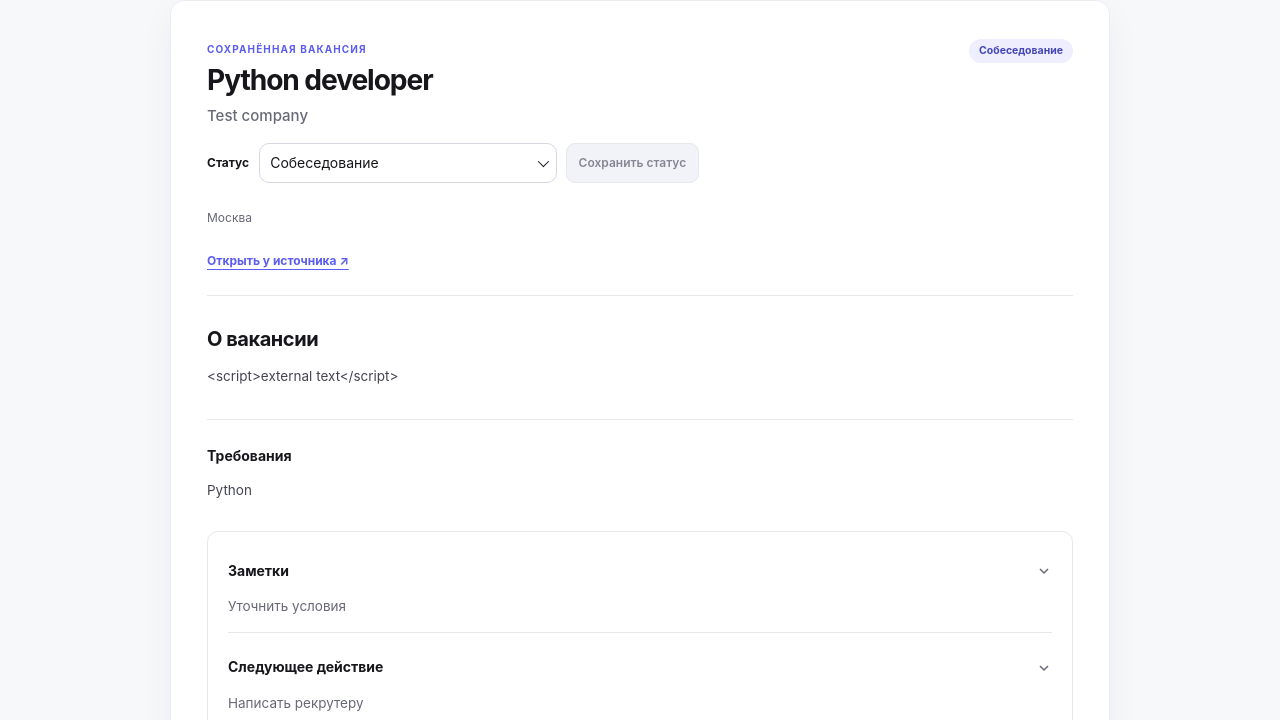
Test: does not fetch unopened history after status save
The width and height of the screenshot is (1280, 720).
Step 1. Click the dropdown named "Статус " → [324, 162], box [259,143,557,183]
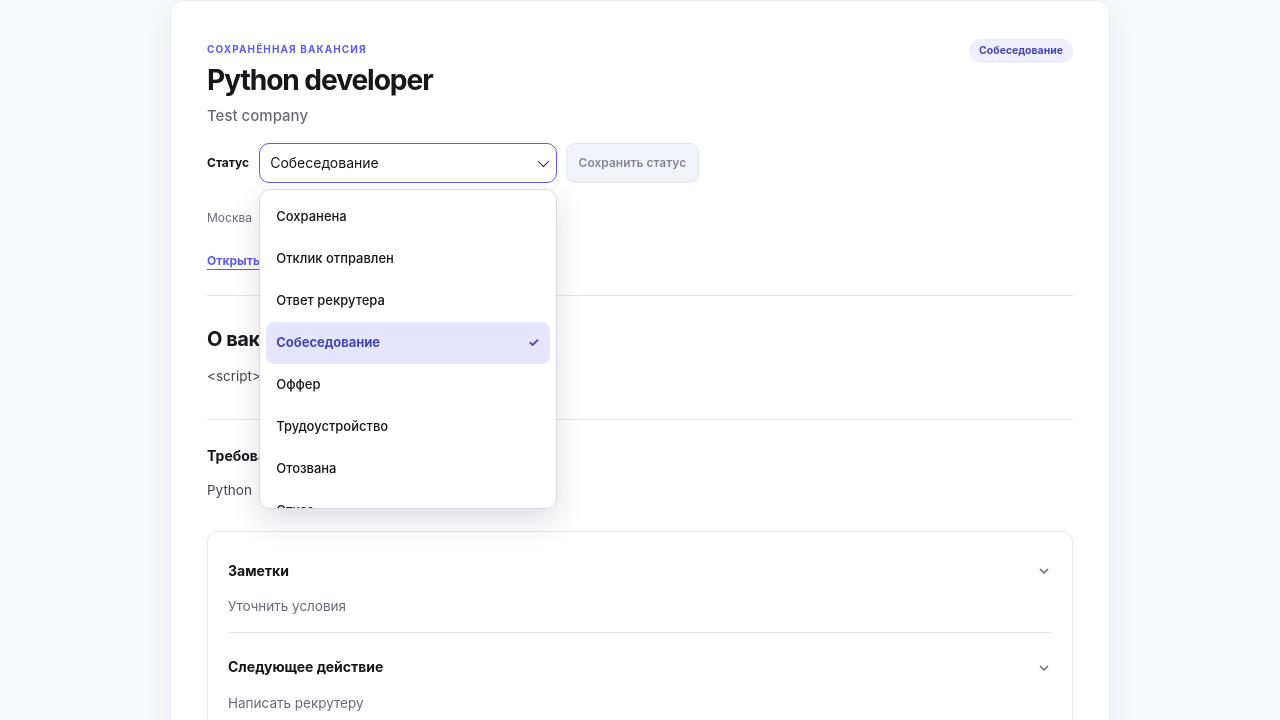
Step 2. Click the option "Оффер" → [298, 384], box [266,364,550,406]
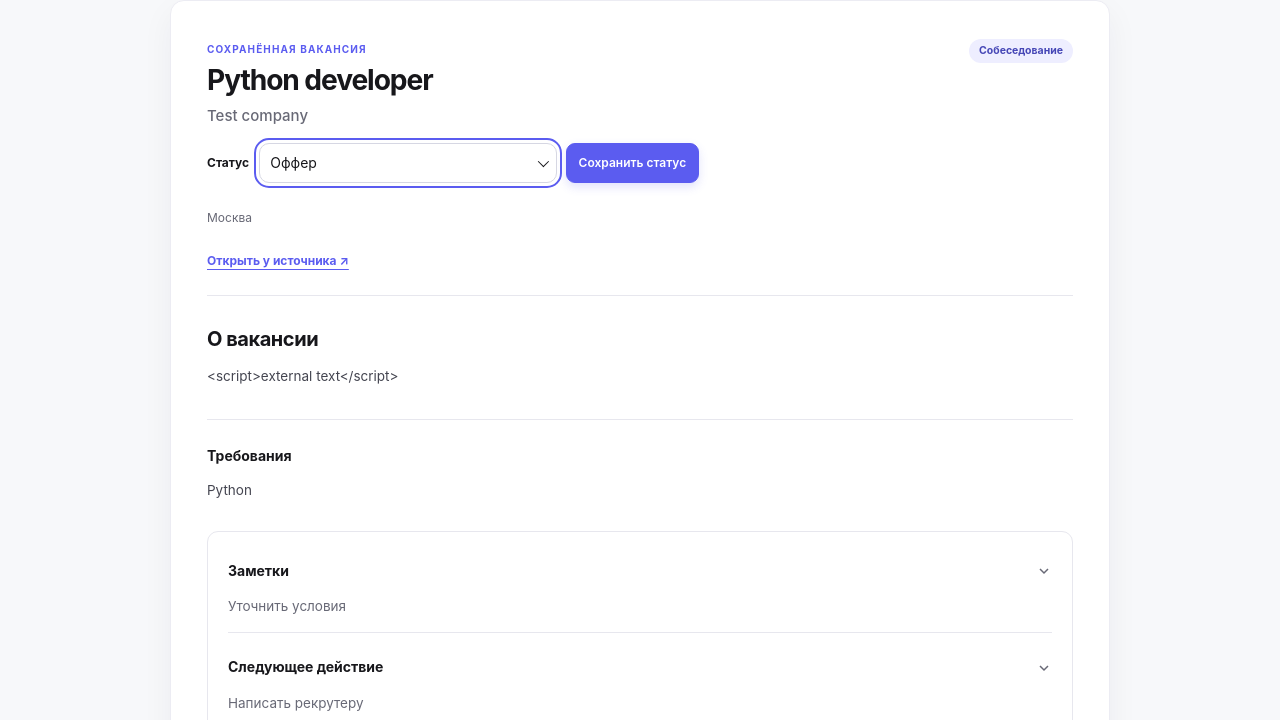
Step 3. Click the button "Сохранить статус" → [632, 163], box [566,143,699,183]
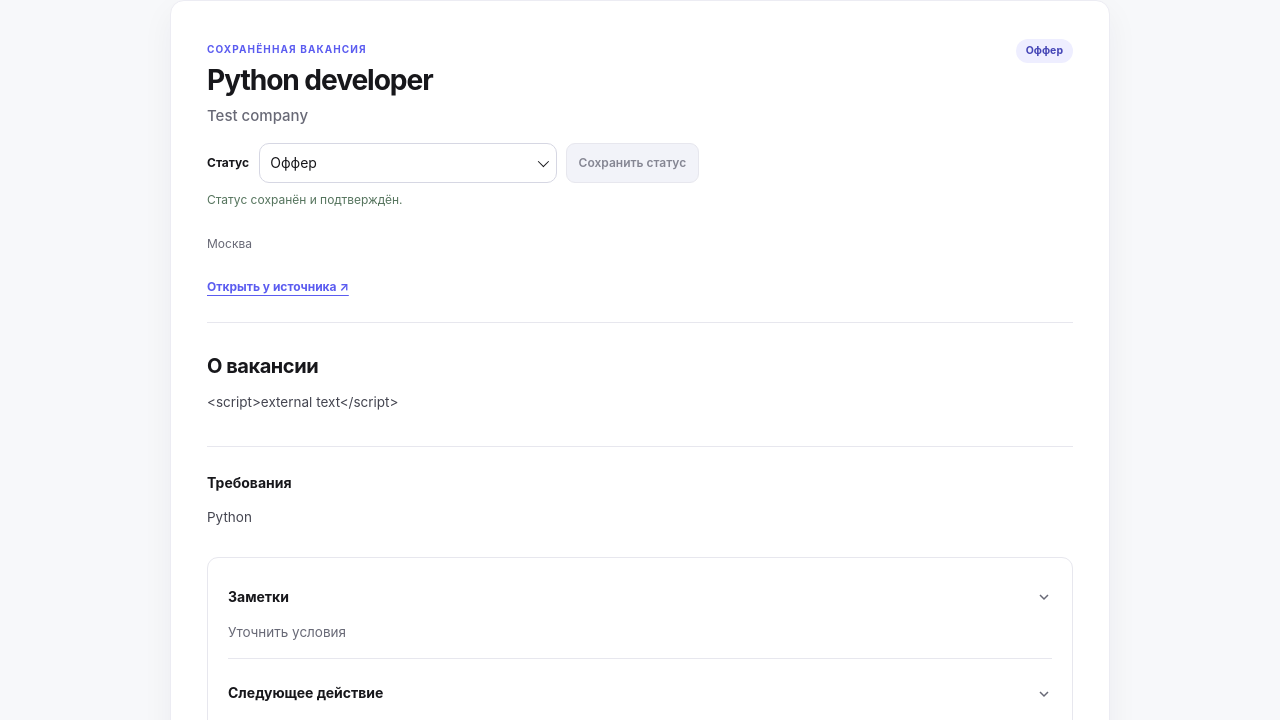
Check: the text with class "status-badge" reads "Оффер", box [1026,44,1063,57]
